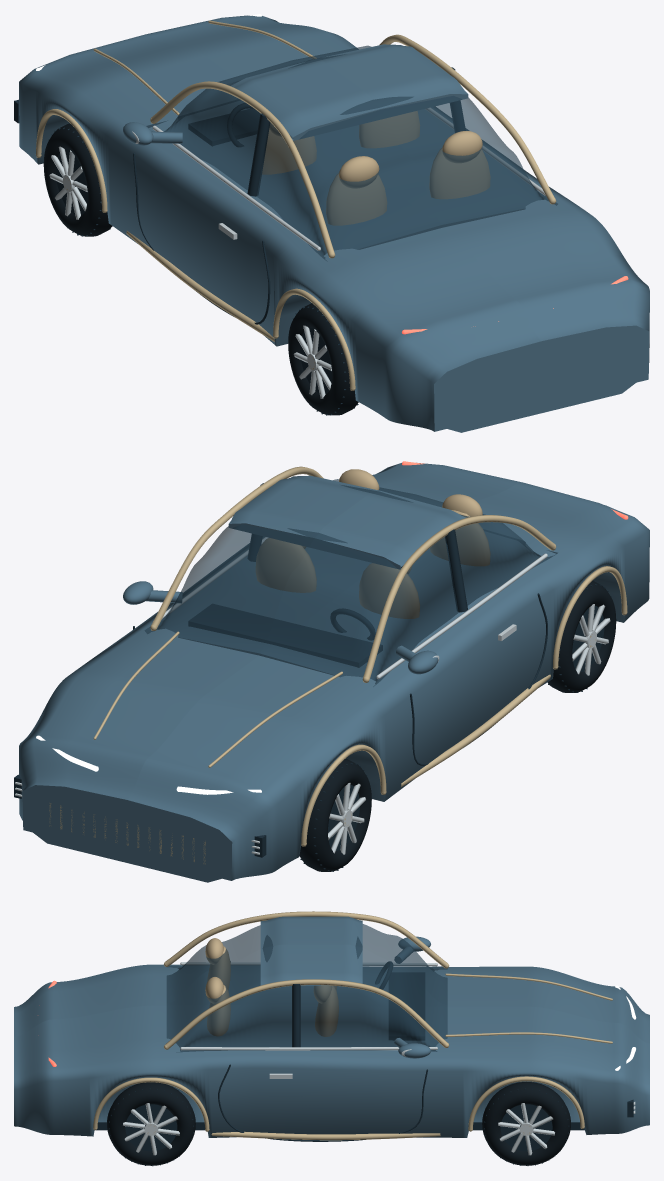
Rendered from car.glb.
The picture shows the model from 3 angles, top to bottom: view 1: azimuth 30°, elevation 25°; view 2: azimuth 150°, elevation 25°; view 3: azimuth 270°, elevation 25°; orthographic projection. The views are drawn at different scales.
Parts seen in each view (by area): view 1: body-body, body-glass, body-seat, body-champagne, body-dark, wheel-rl-rubber, wheel-fl-rubber, body-silver, wheel-rl-silver, wheel-fl-silver, wheel-fl-dark, wheel-rl-dark; view 2: body-body, body-glass, body-champagne, body-seat, body-dark, wheel-fl-rubber, wheel-rl-rubber, body-silver, wheel-fl-silver, wheel-rl-silver, wheel-fl-dark, body-light (+1 smaller); view 3: body-body, body-glass, body-champagne, body-dark, wheel-fr-rubber, wheel-rr-rubber, body-seat, body-silver, wheel-fr-dark, wheel-rr-dark, wheel-fr-silver, wheel-rr-silver.
Part boxes in pixels (x1,y1,x2,y2): body-body: [19, 15, 649, 432]; body-glass: [146, 45, 557, 261]; body-seat: [262, 111, 490, 225]; body-champagne: [35, 20, 556, 390]; body-dark: [14, 67, 465, 324]; wheel-rl-rubber: [288, 303, 358, 415]; wheel-fl-rubber: [43, 123, 111, 236]; body-silver: [132, 108, 545, 250]; wheel-rl-silver: [293, 325, 331, 398]; wheel-fl-silver: [49, 146, 87, 219]; wheel-fl-dark: [48, 127, 112, 236]; wheel-rl-dark: [293, 306, 358, 415]; body-body: [19, 463, 649, 882]; body-glass: [144, 479, 557, 686]; body-champagne: [49, 466, 627, 864]; body-seat: [256, 469, 490, 618]; body-dark: [14, 483, 547, 857]; wheel-fl-rubber: [299, 759, 371, 871]; wheel-rl-rubber: [547, 580, 616, 692]; body-silver: [15, 537, 547, 854]; wheel-fl-silver: [328, 783, 365, 854]; wheel-rl-silver: [572, 604, 610, 675]; wheel-fl-dark: [300, 763, 367, 871]; body-light: [36, 735, 261, 794]; body-body: [14, 916, 649, 1137]; body-glass: [166, 924, 447, 1052]; body-champagne: [93, 911, 612, 1140]; body-dark: [96, 961, 633, 1141]; wheel-fr-rubber: [482, 1082, 570, 1165]; wheel-rr-rubber: [107, 1082, 195, 1165]; body-seat: [205, 938, 338, 1036]; body-silver: [180, 962, 635, 1113]; wheel-fr-dark: [484, 1081, 569, 1165]; wheel-rr-dark: [108, 1084, 193, 1166]; wheel-fr-silver: [498, 1103, 554, 1155]; wheel-rr-silver: [123, 1103, 179, 1155].
Size of the model in its own units: 2.14 by 1.5 by 5.
